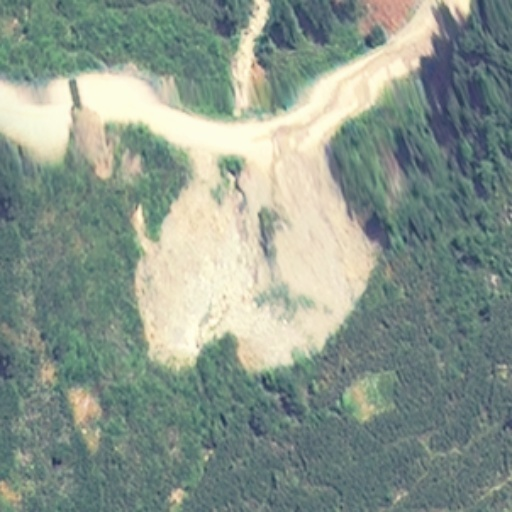landslide: (133, 149, 372, 372)
